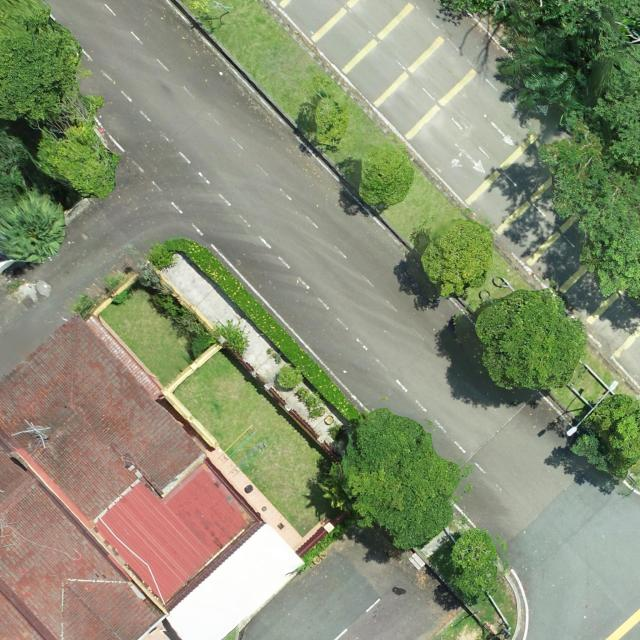Tree: (539, 109, 640, 300), (341, 406, 462, 552), (474, 286, 586, 391), (498, 7, 591, 115), (35, 92, 121, 200), (0, 17, 83, 123), (569, 392, 640, 478), (420, 219, 494, 298), (0, 186, 67, 264), (296, 73, 350, 150), (358, 143, 414, 208), (449, 528, 499, 600), (0, 126, 31, 201)
